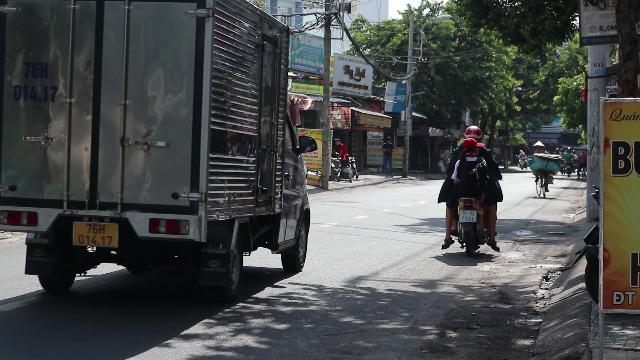helmet: (463, 125, 482, 139)
licenseplate: (459, 210, 476, 221)
motorcyclist: (436, 124, 504, 256)
nohelmet: (460, 138, 482, 154)
